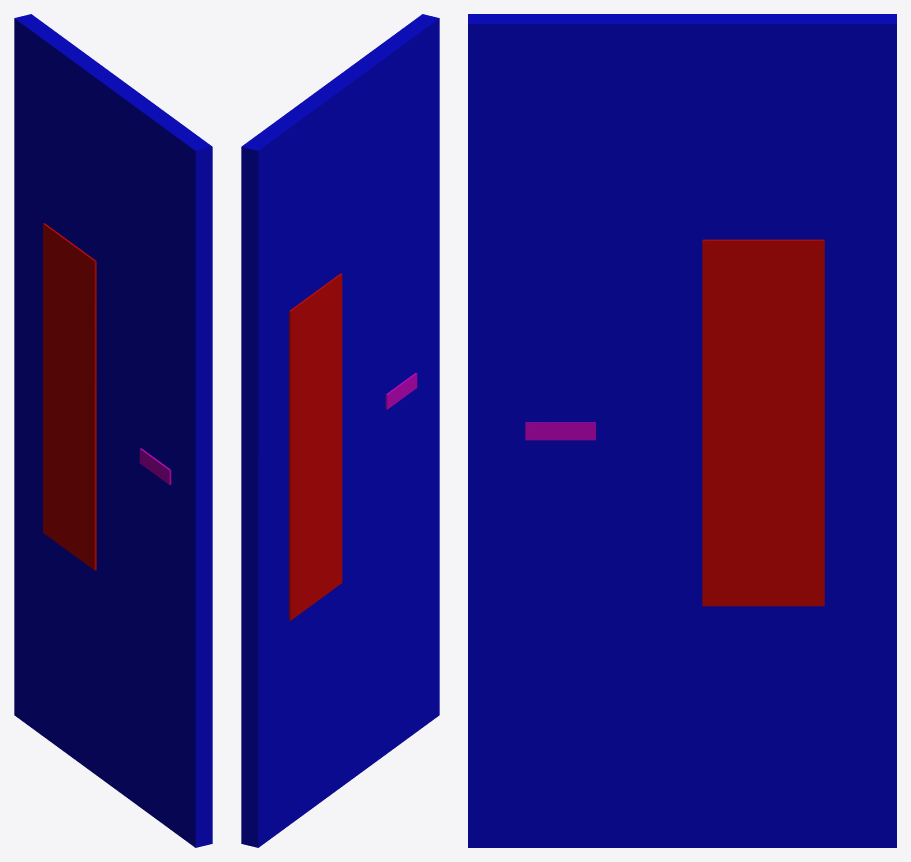
The model's file is puerta cocina_low.obj.
The picture shows the model from 3 angles, left to right: view 1: azimuth 30°, elevation 25°; view 2: azimuth 150°, elevation 25°; view 3: azimuth 270°, elevation 25°; orthographic projection. The views are drawn at different scales.
Visible parts, largest first — view 1: cafeteria:polySurface18; view 2: cafeteria:polySurface18; view 3: cafeteria:polySurface18.
Part boxes in pixels (<box>): cafeteria:polySurface18: <box>14,14,212,847</box>; cafeteria:polySurface18: <box>241,14,439,847</box>; cafeteria:polySurface18: <box>468,14,896,847</box>.
Bounding box in the file's own units: 1.31 × 42.44 × 20.02.
1 material, 1 textured.
